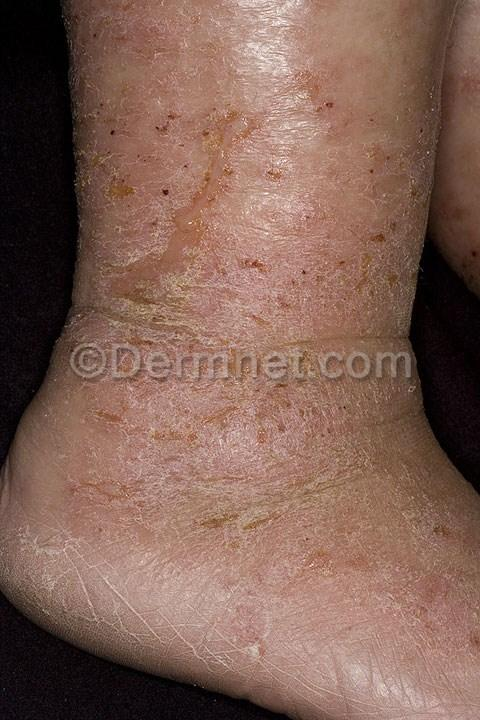Eczema: (95, 93, 277, 331), (89, 392, 308, 559), (289, 63, 419, 285)
